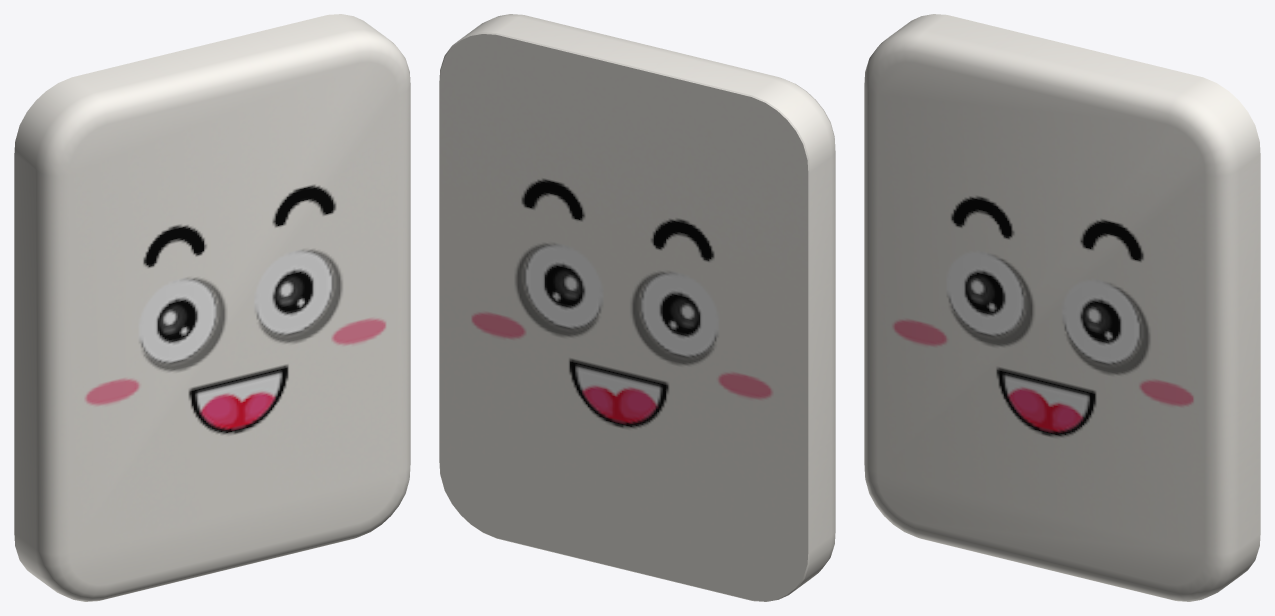
File: level_190_fix.fbx
3 renders of one model, left to right at view 1: azimuth 30°, elevation 25°; view 2: azimuth 150°, elevation 25°; view 3: azimuth 330°, elevation 25°, orthographic.
Parts seen in each view (by area): view 1: Cube_L1_3.003; view 2: Cube_L1_3.003; view 3: Cube_L1_3.003.
Part boxes in pixels (x1=…): Cube_L1_3.003: x1=14, y1=14, x2=410, y2=601; Cube_L1_3.003: x1=439, y1=14, x2=835, y2=601; Cube_L1_3.003: x1=864, y1=14, x2=1260, y2=601.
Bounding box in the file's own units: 10.88 × 14.17 × 1.76.
